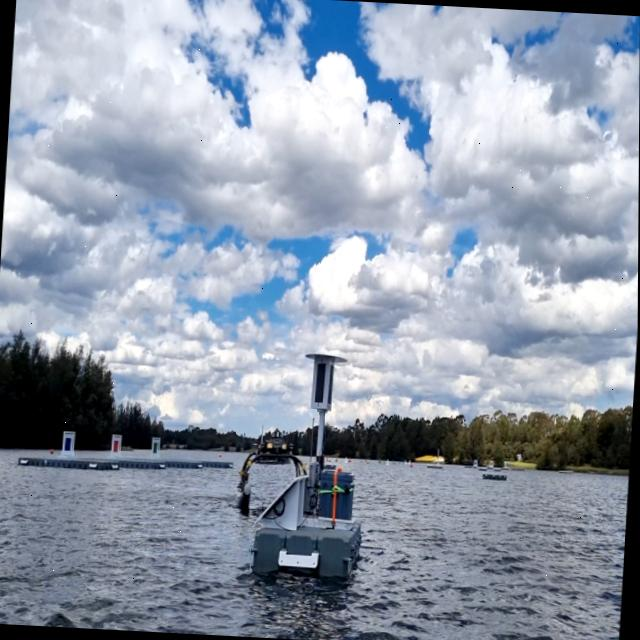led: (313, 362, 328, 408)
